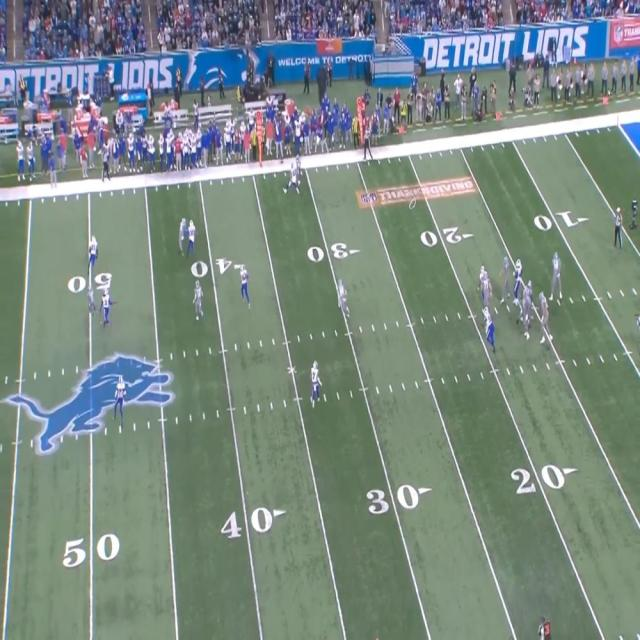db: (115, 377, 126, 427), (310, 362, 320, 407), (90, 235, 100, 273), (184, 219, 194, 255), (105, 289, 113, 324)
lb: (239, 265, 250, 303), (286, 162, 298, 192)
skill: (193, 279, 203, 319), (338, 280, 347, 318), (178, 215, 186, 253), (88, 284, 94, 318), (295, 153, 302, 175)
